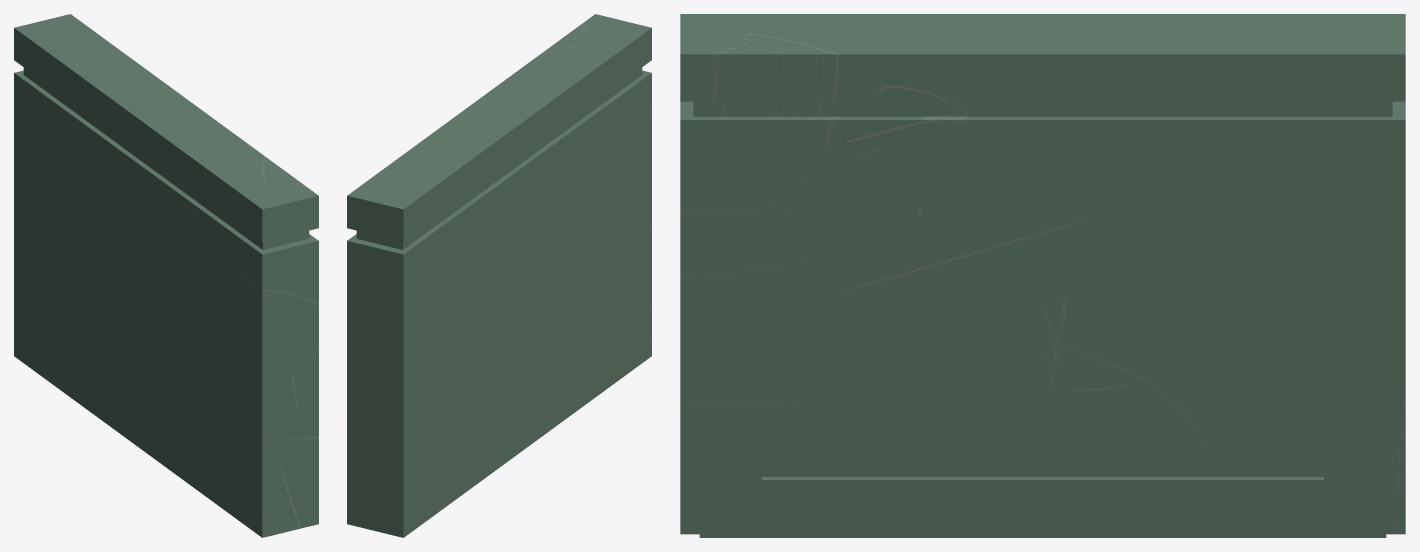
The model's file is gameboy_cartridge_baked.fbx.
3 renders of one model, left to right at view 1: azimuth 30°, elevation 25°; view 2: azimuth 150°, elevation 25°; view 3: azimuth 270°, elevation 25°, orthographic. The views are drawn at different scales.
Parts seen in each view (by area): view 1: Cube.001; view 2: Cube.001; view 3: Cube.001.
Boxes of the visible parts, box(x1,y1,x2,y2) form: Cube.001: box(14, 14, 318, 537); Cube.001: box(347, 14, 651, 537); Cube.001: box(680, 14, 1405, 537).
Size of the model in its own units: 21.86 by 124 by 167.
